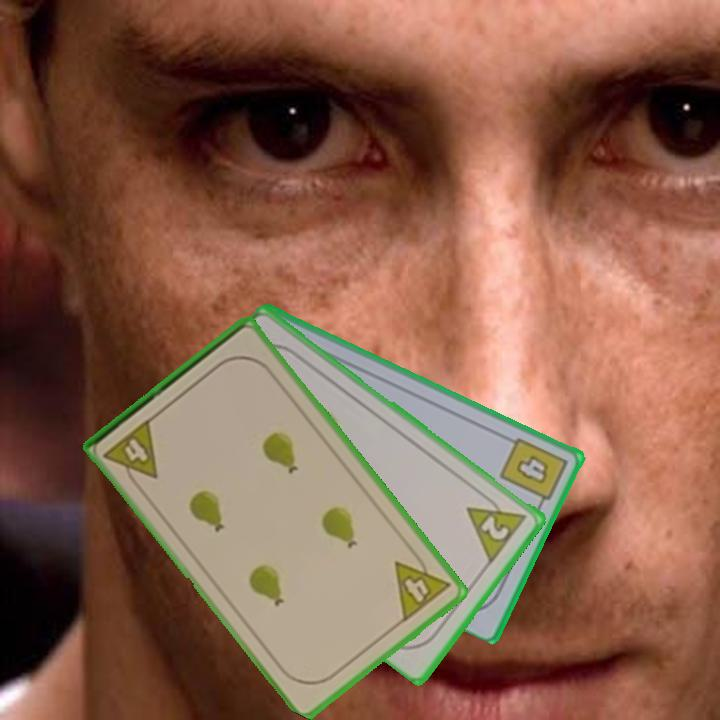2p: (463, 487, 530, 566)
4b: (496, 433, 571, 512)
4p: (391, 545, 453, 625), (100, 415, 162, 493)
